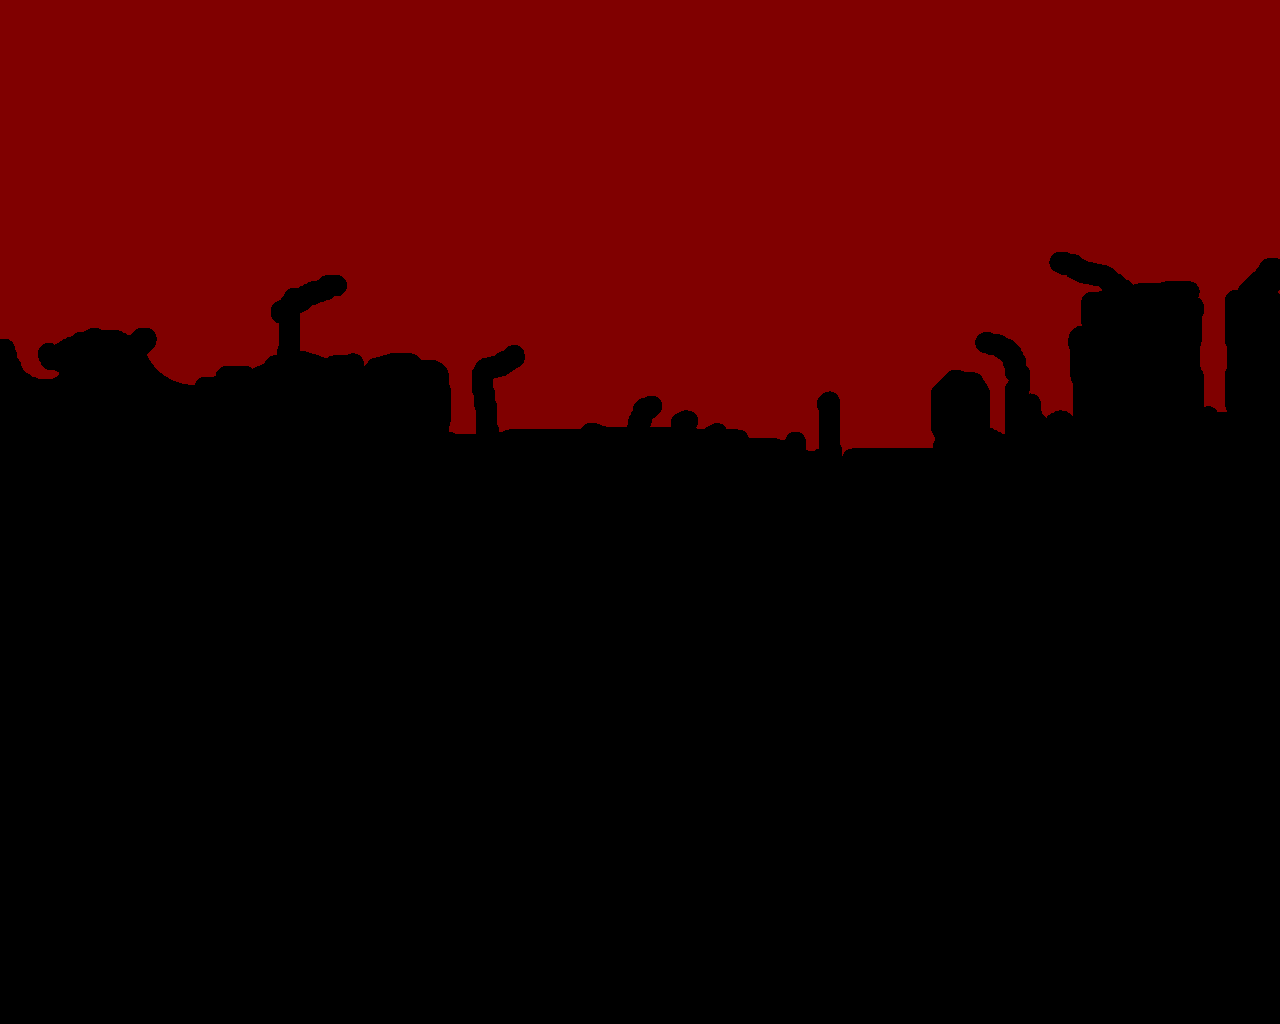Sky: (1, 1, 1279, 456)
